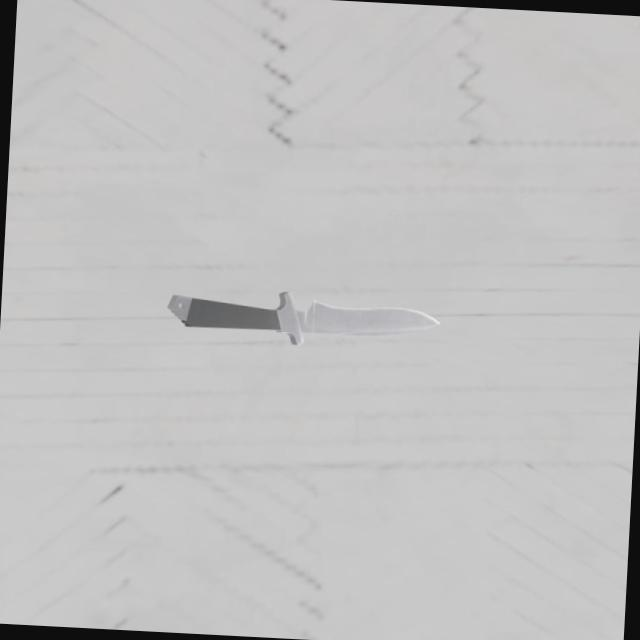knife: (184, 298, 282, 330)
